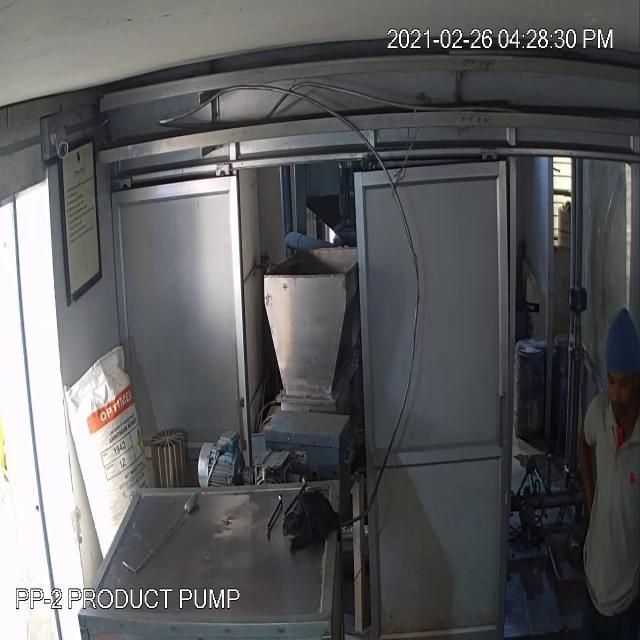no-helmet: (594, 300, 640, 384)
